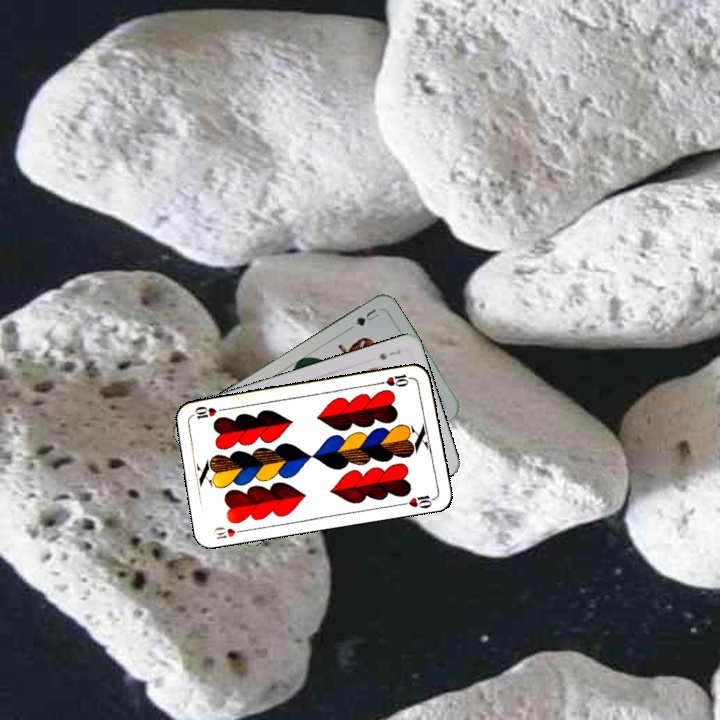GU: (351, 304, 382, 329)
H10: (376, 370, 416, 390), (209, 523, 250, 542)
S7: (375, 345, 403, 362)
